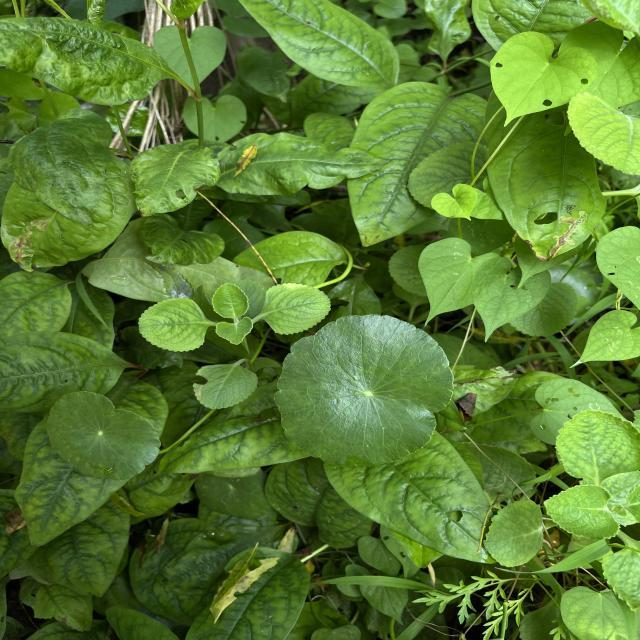Bacopa monnieri: (272, 312, 456, 469), (44, 389, 164, 482)
